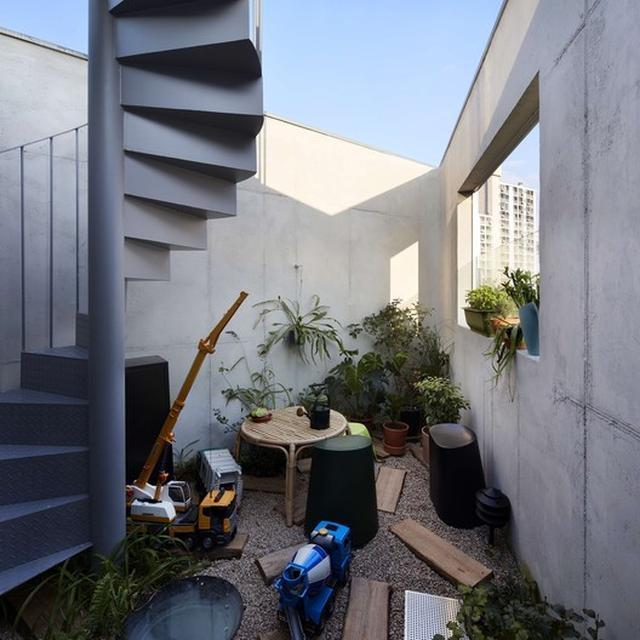building: (462, 153, 546, 322)
